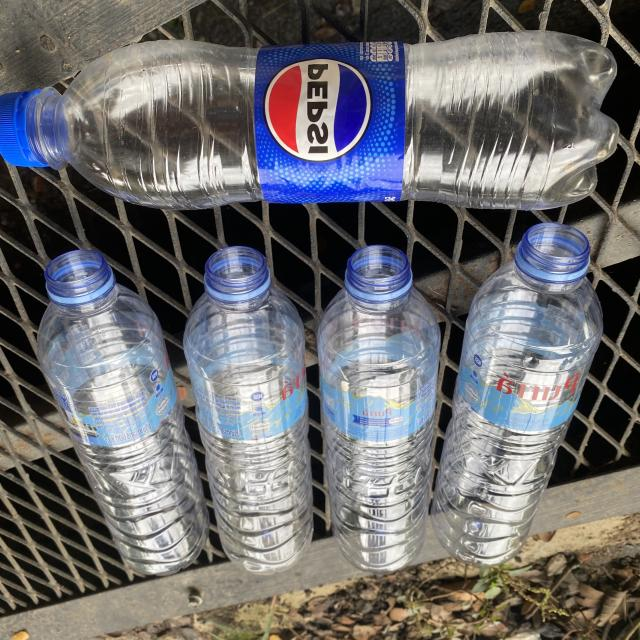plastik: (0, 31, 618, 210), (432, 223, 602, 566), (37, 250, 208, 575), (184, 246, 312, 574), (318, 245, 440, 573)
